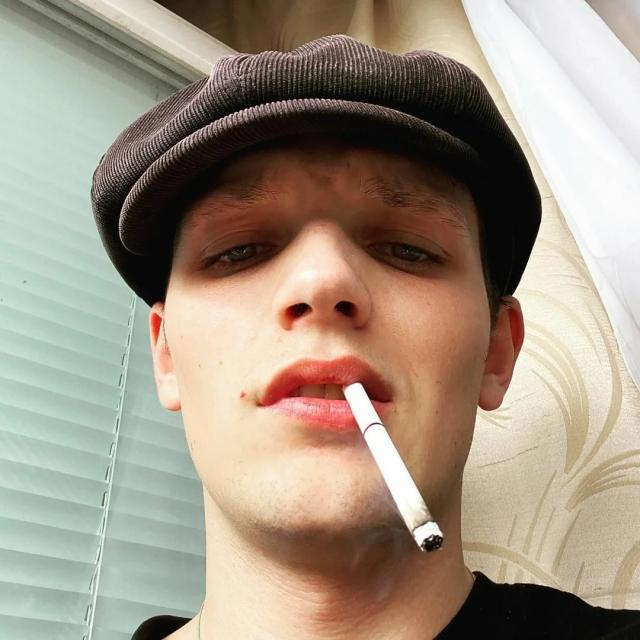smoke: (344, 379, 446, 559)
